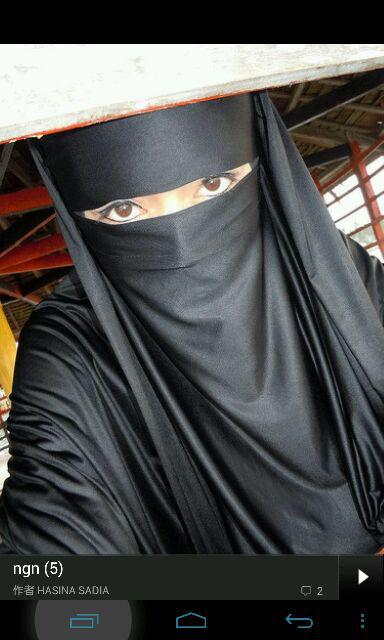OK: (90, 167, 244, 321)
